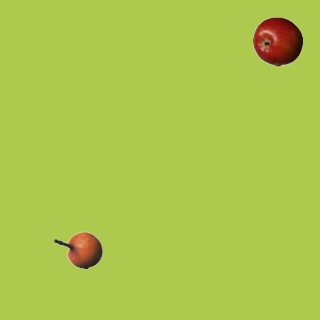Apple Braeburn: (252, 16, 302, 66)
Granadilla: (52, 225, 102, 275)
